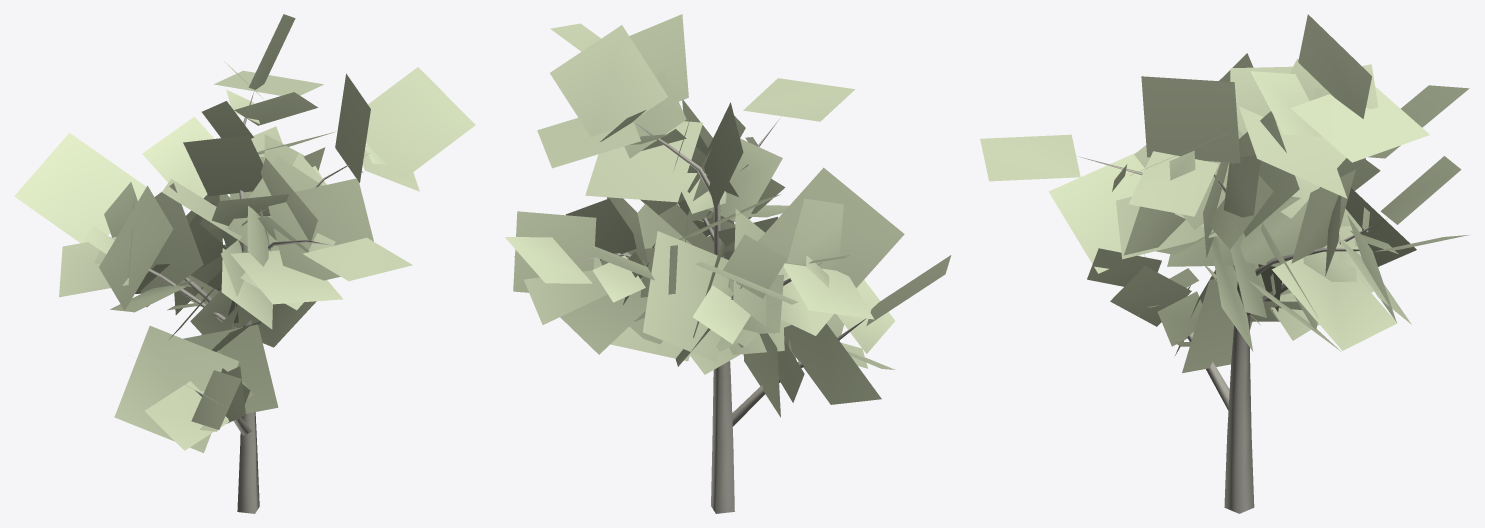
Rendered from maple_lo.glb.
3 views of the same model, side by side, from view 1: azimuth 30°, elevation 25°; view 2: azimuth 150°, elevation 25°; view 3: azimuth 270°, elevation 25° (orthographic). The views are drawn at different scales.
Size of the model in its own units: 11.06 by 14 by 11.75.
